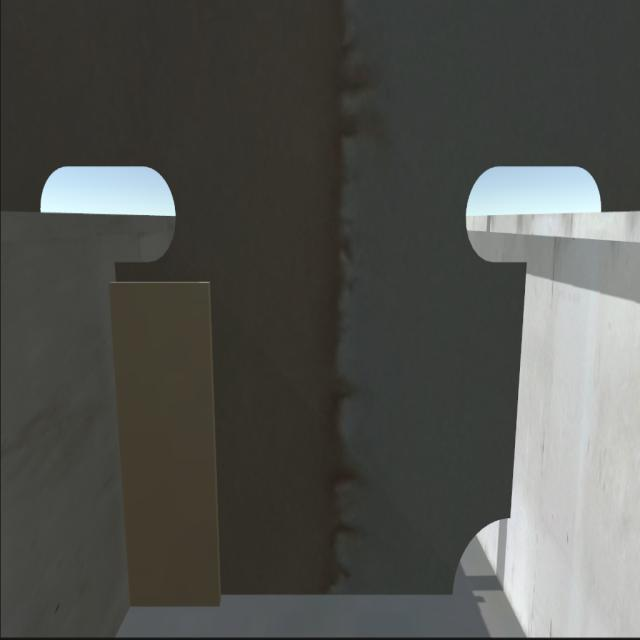fillet_hole: (450, 511, 510, 597)
fillet_yong_jeop_jang: (133, 574, 465, 612)
longi_yong_jeop_jang: (98, 255, 143, 610), (507, 250, 524, 518)
plate_CP01: (112, 281, 225, 611)
